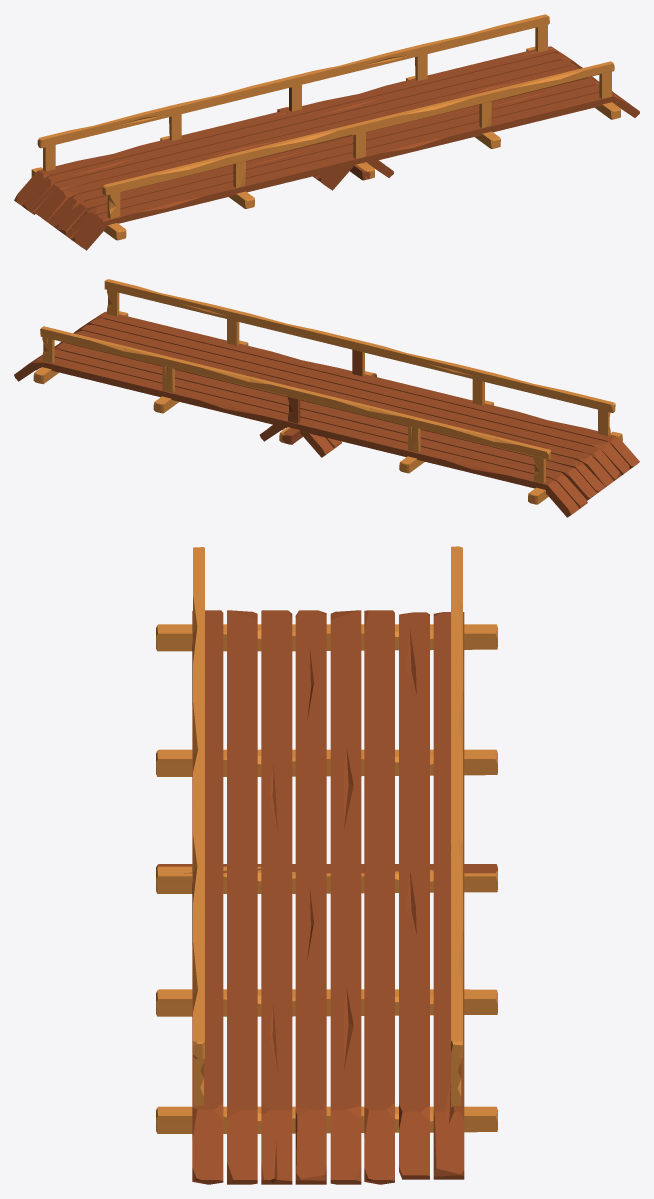
File: bridge03.fbx
3 views of the same model, one above another, from view 1: azimuth 30°, elevation 25°; view 2: azimuth 150°, elevation 25°; view 3: azimuth 270°, elevation 25° (orthographic). The views are drawn at different scales.
Visible parts, largest first — view 1: pasted__pasted__Bridge_3; view 2: pasted__pasted__Bridge_3; view 3: pasted__pasted__Bridge_3.
Part boxes in pixels (left/top/right/bottom): pasted__pasted__Bridge_3: left=14, top=14, right=639, bottom=250; pasted__pasted__Bridge_3: left=14, top=279, right=639, bottom=517; pasted__pasted__Bridge_3: left=156, top=546, right=497, bottom=1184.
Size of the model in its own units: 892 by 92.14 by 236.
